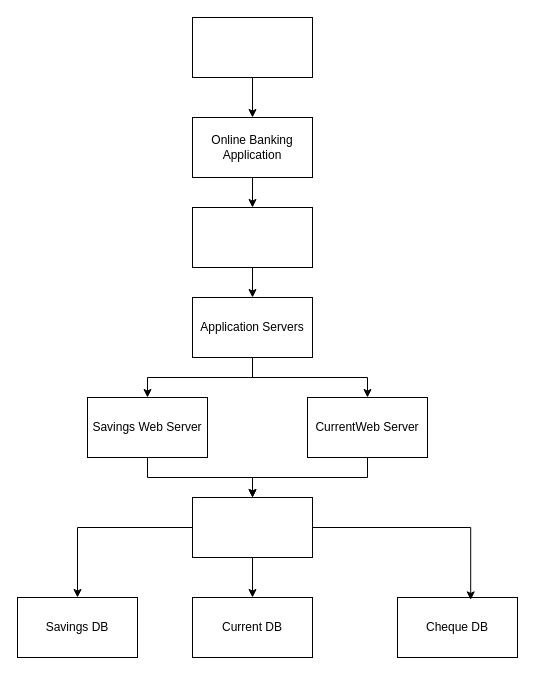
Some shapes in this 535 by 675 pixel diagram are drawn without their labels. Here are the shapes that lost their labels. From the top down, the centre of each, then its label:
At (252,47): "Customer".
At (252,237): "Bank's Backend System".
At (252,527): "Database Servers".
